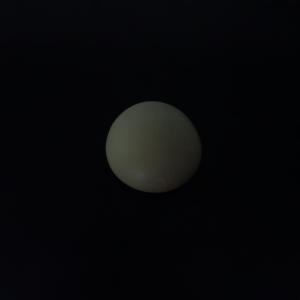Egg: (96, 98, 202, 202)
